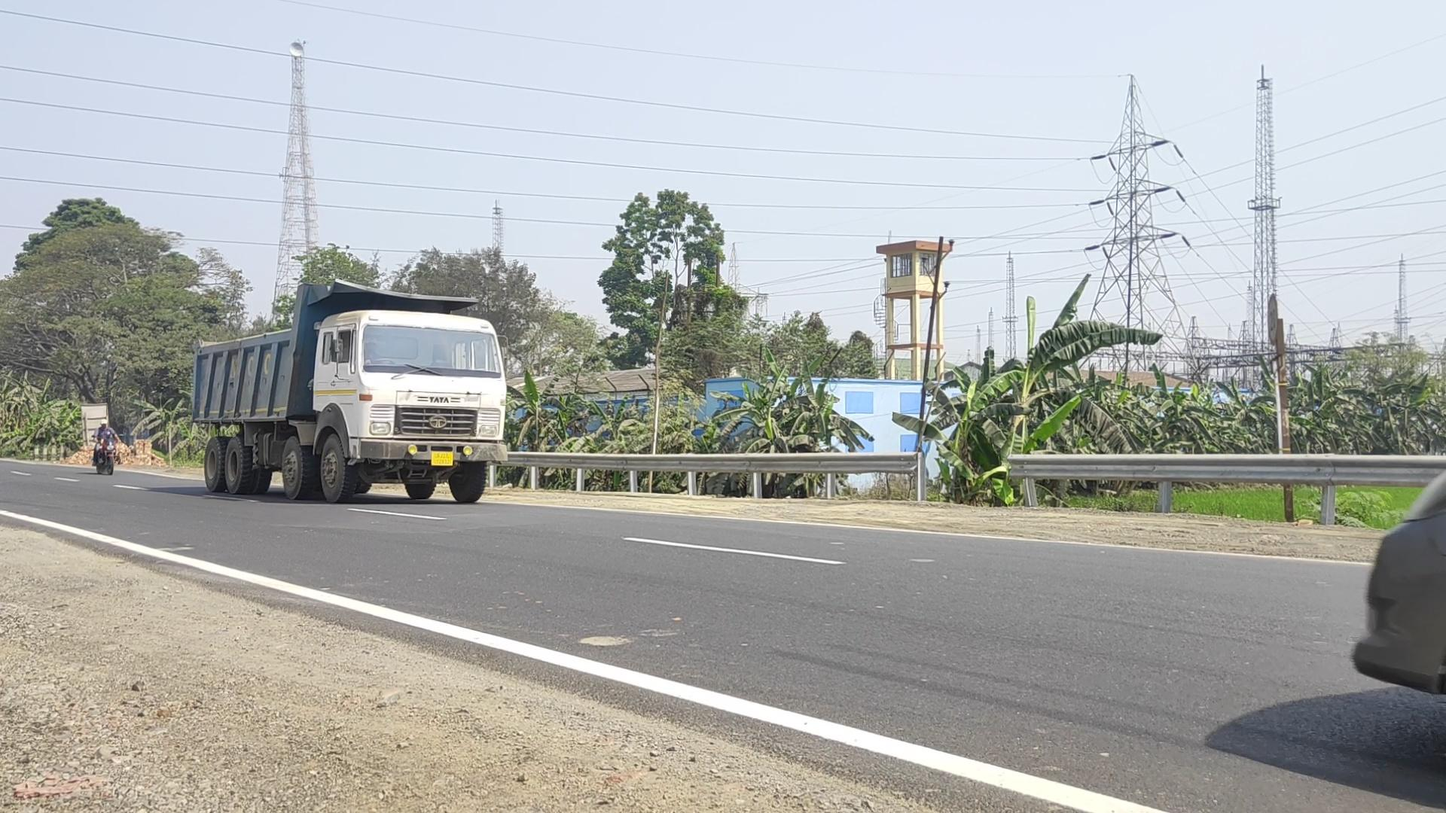bike: (92, 419, 121, 476)
truck: (190, 278, 508, 504)
